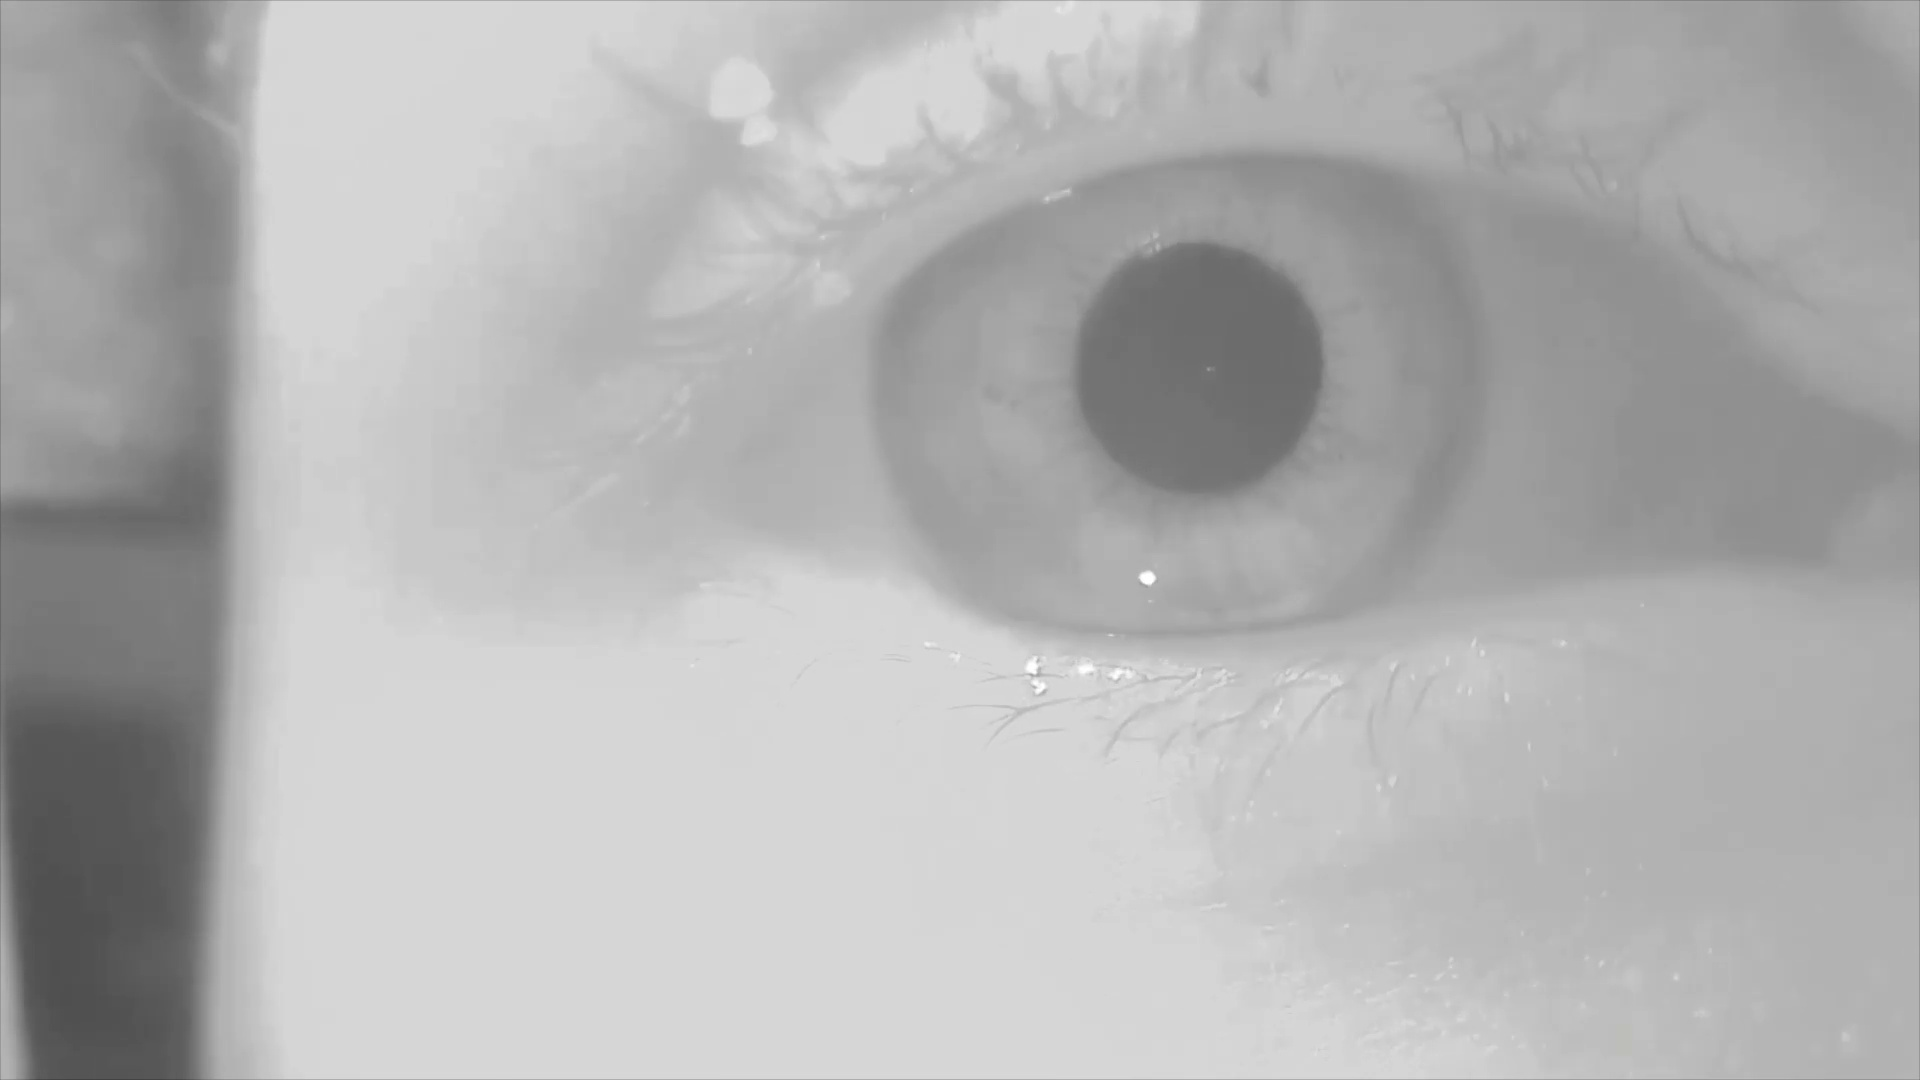pupil: (1071, 240, 1329, 493)
